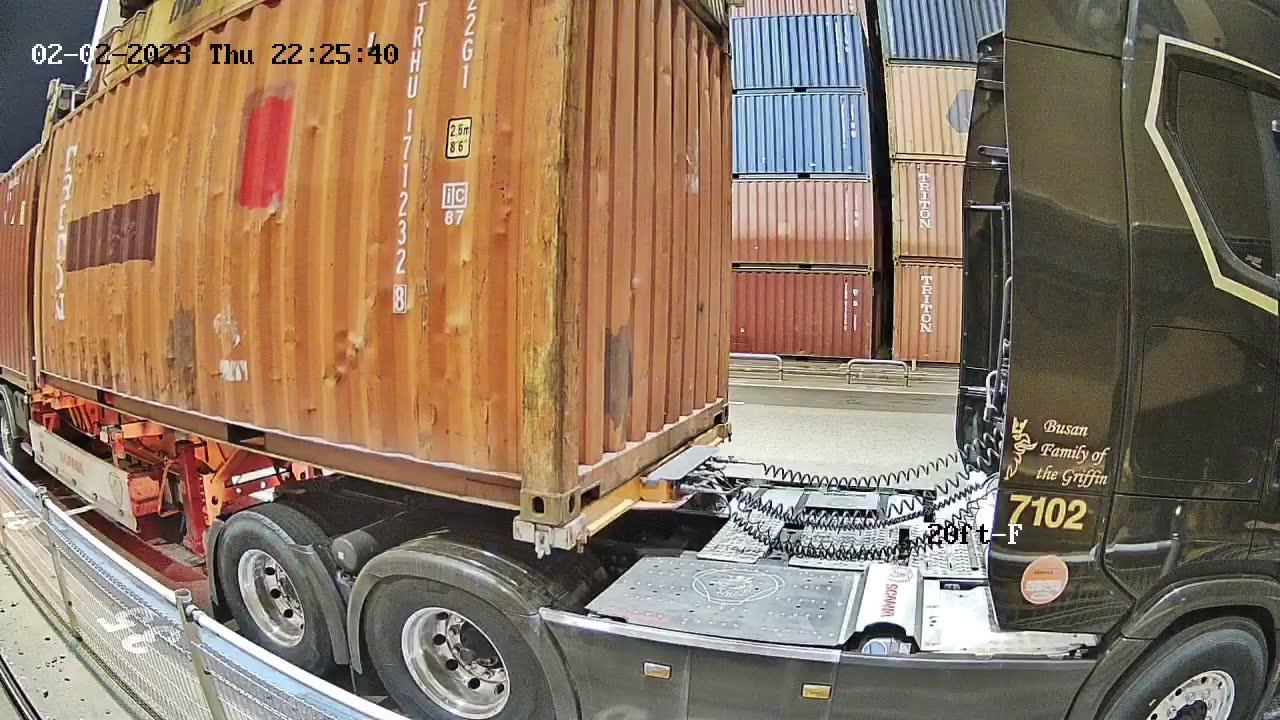Chassis: (521, 422, 730, 550)
Cone: (521, 519, 557, 553)
Hole_L: (559, 440, 604, 525)
Hole_R: (493, 456, 560, 527), (709, 384, 730, 427)
Tire: (362, 571, 552, 719), (216, 514, 328, 675)
